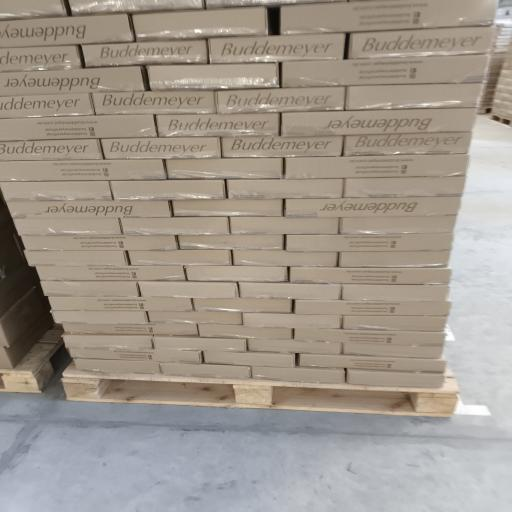pallet: (62, 363, 458, 417), (0, 330, 63, 392), (491, 115, 511, 125), (478, 108, 491, 114)
